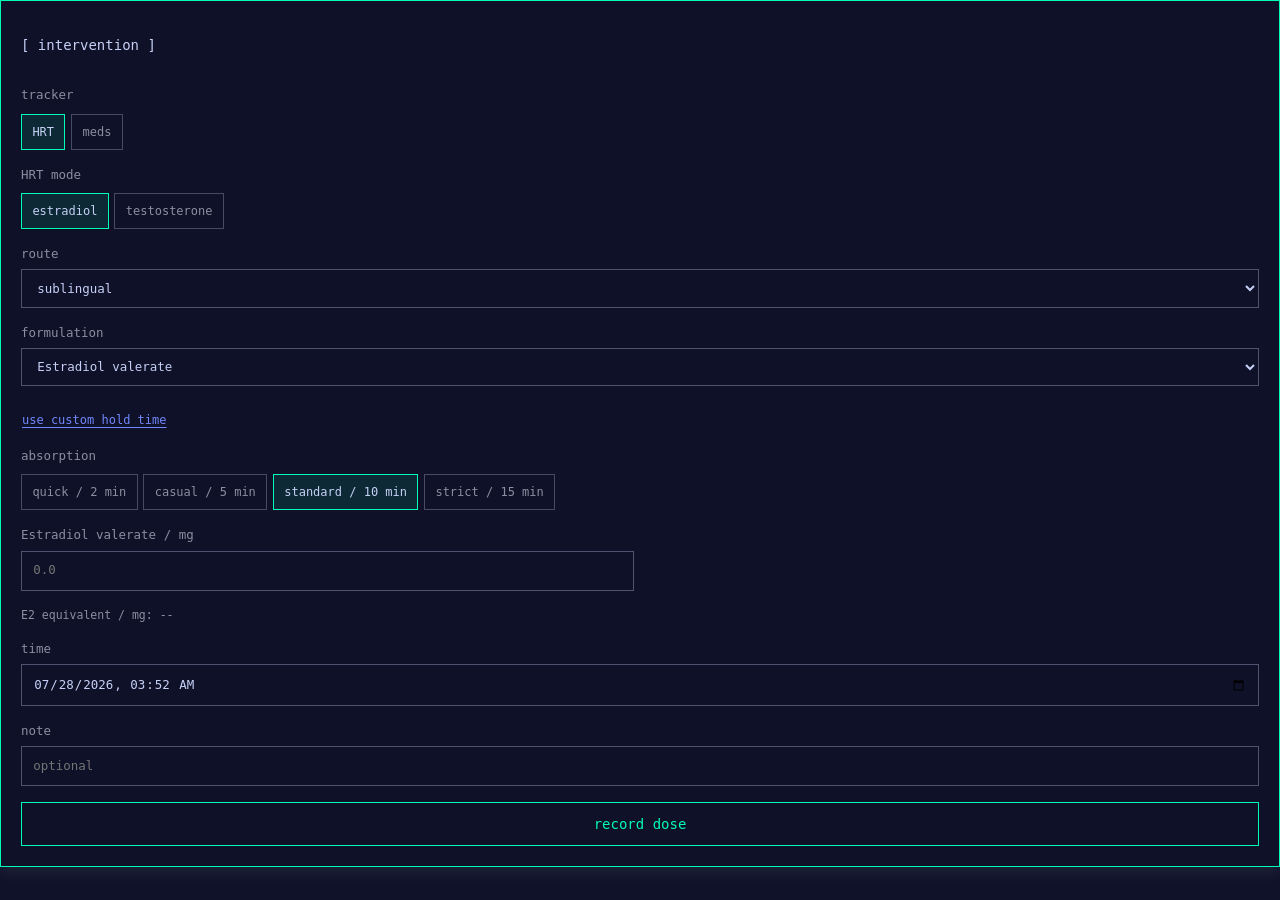
Test: HrtDoseForm route-dependent interactions › changes gel fields and bioavailability with application site
Select "gel" in the dropdown labelled "route" at (640, 288), box [21,269,1259,308]
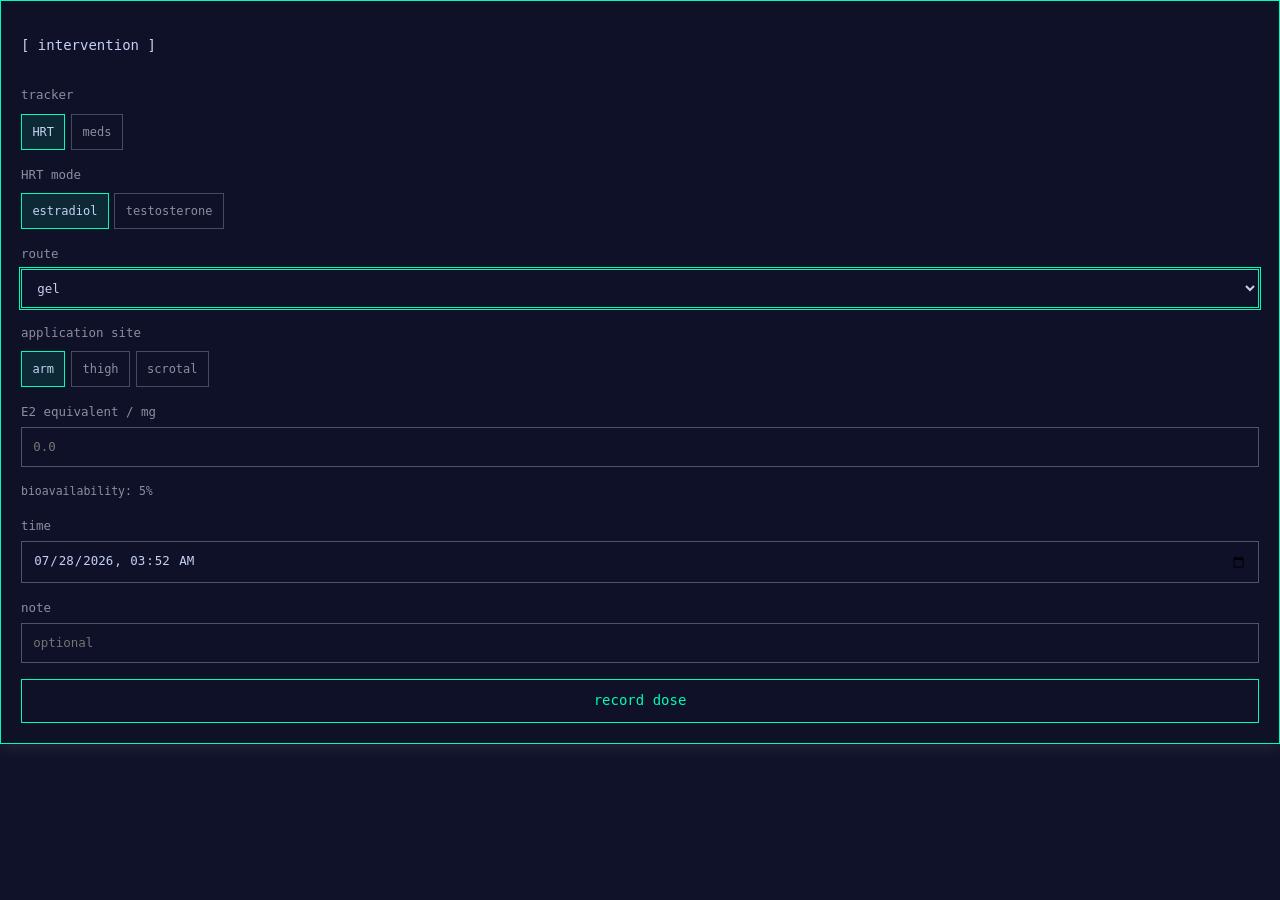
Now the text "application site" is shown, box [21,324,141,340]
Now the text "bioavailability: 5%" is shown, box [21,484,153,498]
Click the button "scrotal".
click(172, 369)  # box [136,351,209,387]
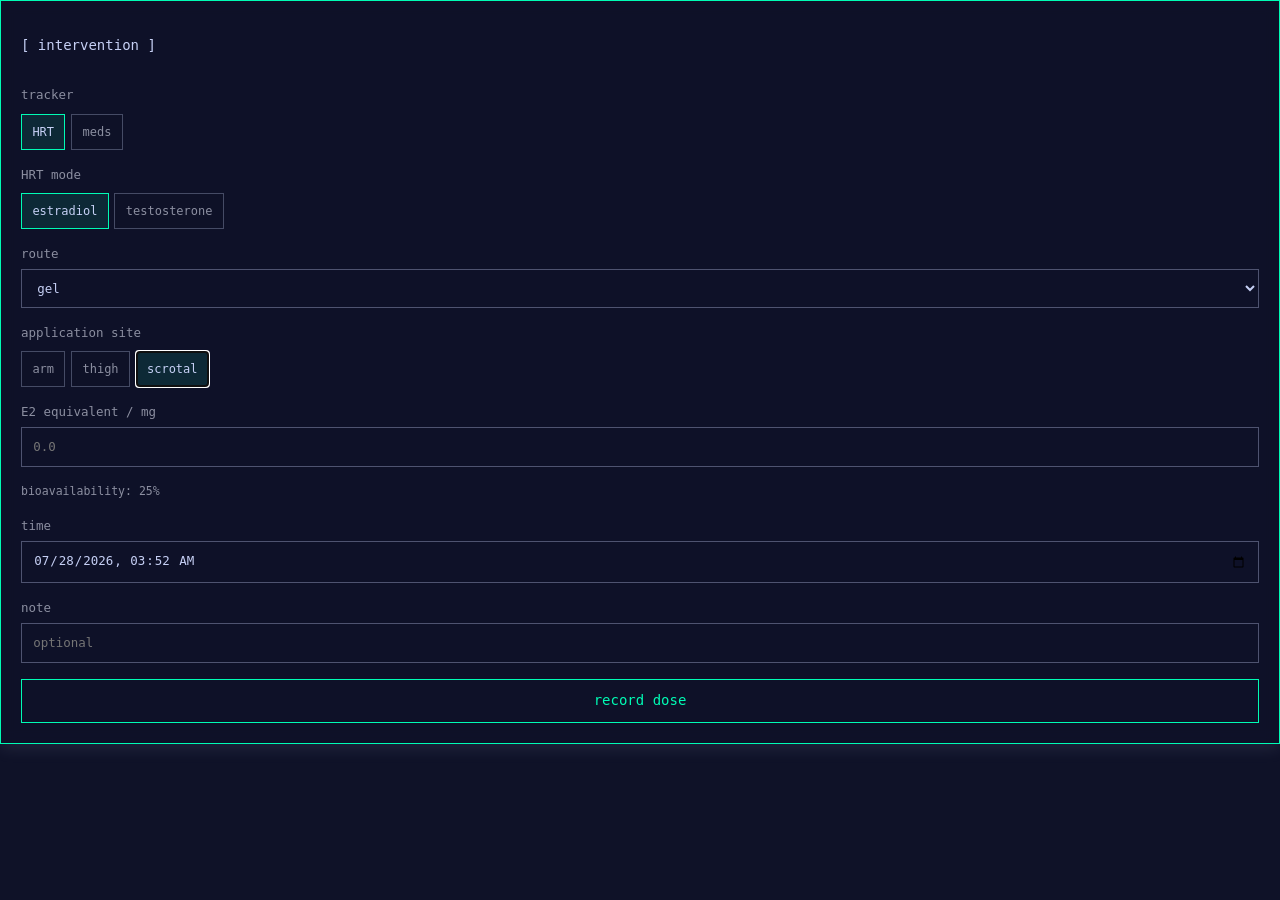
Now the text "bioavailability: 25%" is shown, box [21,484,160,498]
